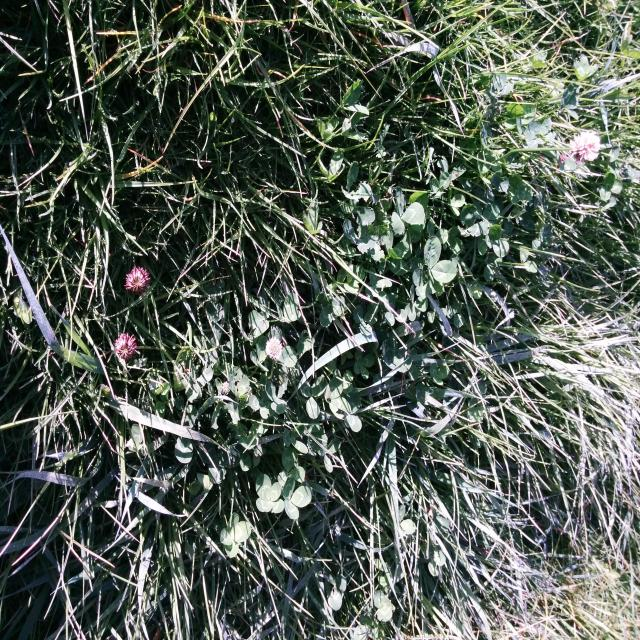Four Leaf Clover: (220, 512, 250, 558), (255, 474, 283, 513)
